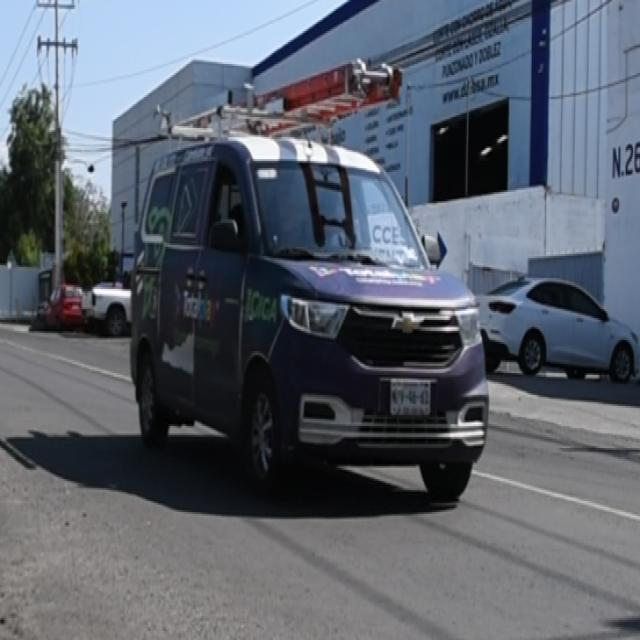placa: (390, 382, 432, 408)
